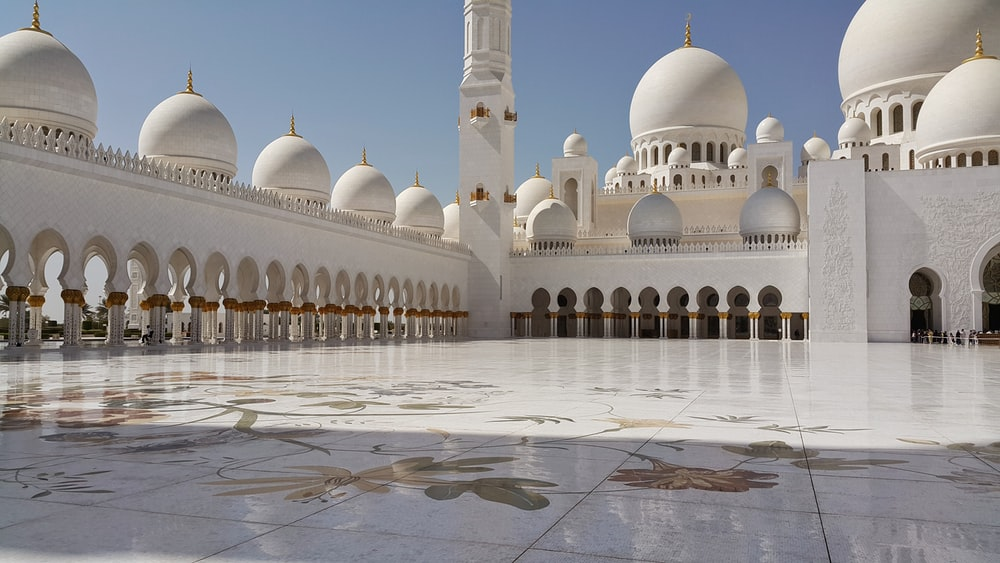Mosque: (5, 6, 985, 353)
